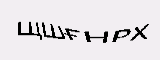Г: (81, 24, 90, 49)
И: (66, 25, 83, 46)
Н: (41, 23, 54, 41)
Т: (91, 32, 112, 51), (53, 22, 65, 41)
